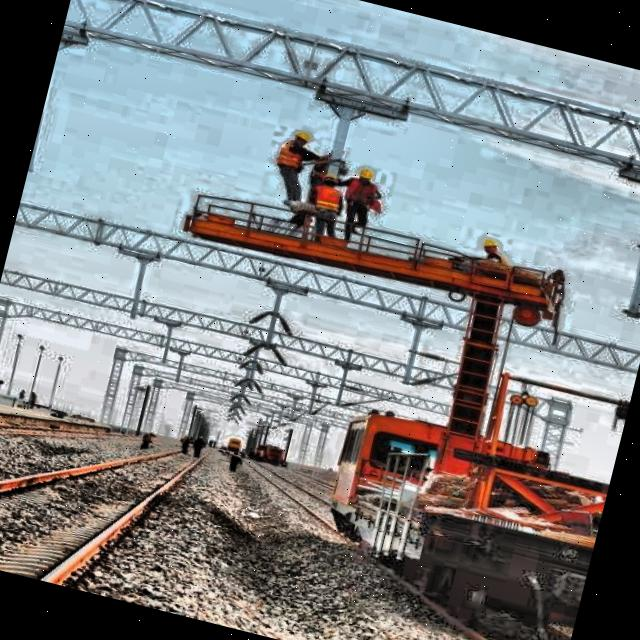helmet: (474, 231, 504, 259), (283, 124, 313, 152), (352, 164, 378, 188)
